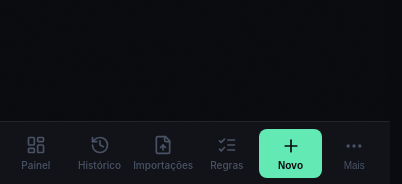
navegação móvel › expõe navegação semântica e menu secundário
What coordinates should you click on to do the following:
click the button with class "mobile-nav-more"
I would click on:
 (354, 153)
Its box is [322, 128, 386, 178].
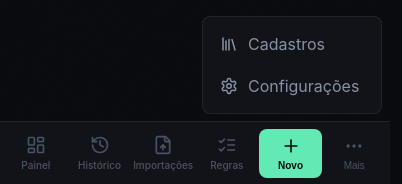
Expected: the link to "/finance/catalogs" reads "Cadastros", [220, 34, 325, 54]
Expected: the link to "/settings" reads "Configurações", [220, 76, 359, 96]
